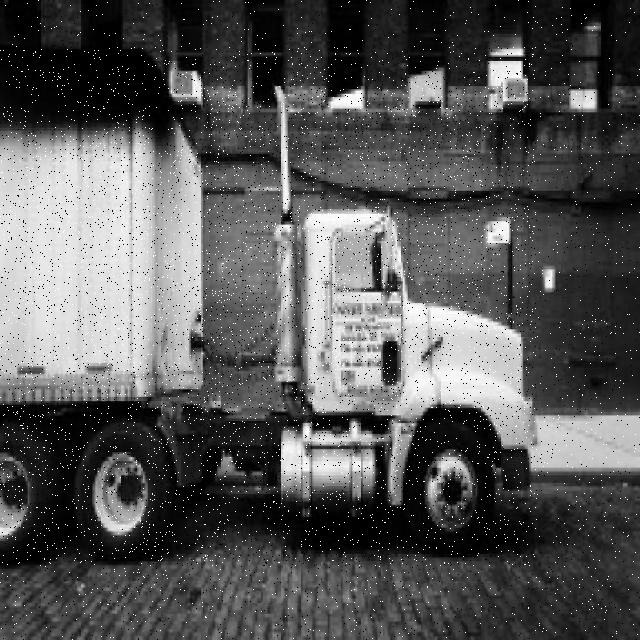Tractor Trailer: (0, 47, 536, 566)
